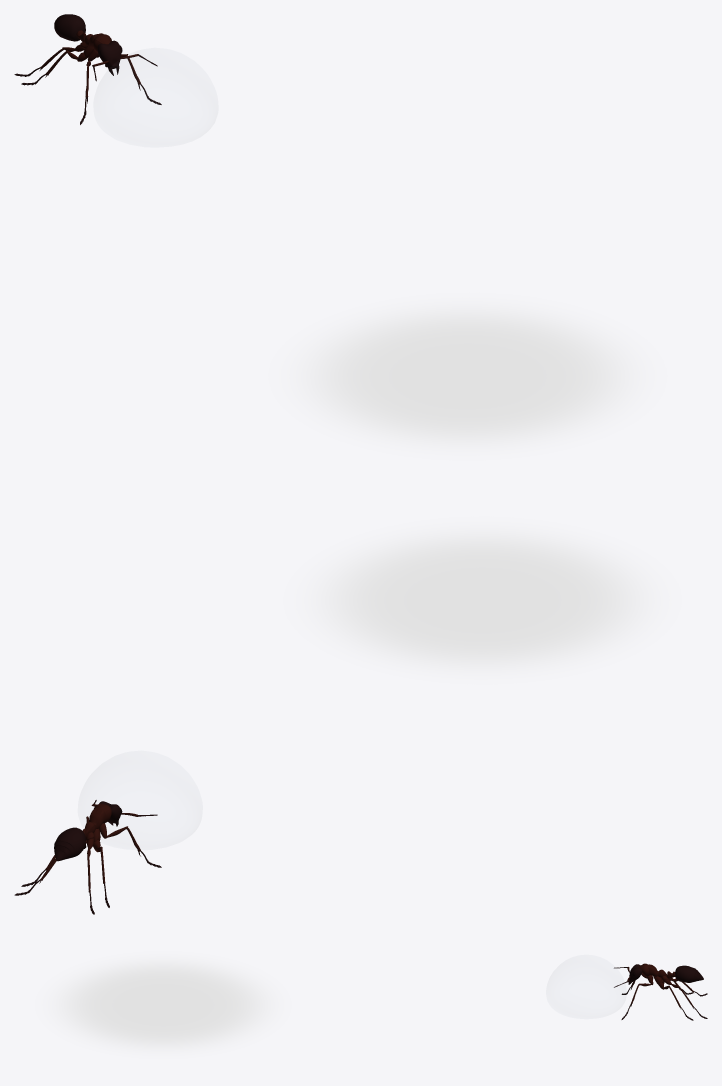
The model's file is ant2.glb.
The picture shows the model from 3 angles, top to bottom: view 1: azimuth 30°, elevation 25°; view 2: azimuth 150°, elevation 25°; view 3: azimuth 270°, elevation 25°; orthographic projection. The views are drawn at different scales.
Visible parts, largest first — view 1: Circle001, anthighrez_ground_0 (×2); view 2: Circle001, anthighrez_ground_0 (×2); view 3: Circle001, anthighrez_ground_0 (×2).
Part boxes in pixels (x1,y1,x2,y2): Circle001: [292, 303, 642, 450]; anthighrez_ground_0 (×2): [14, 14, 161, 124]; Circle001: [307, 526, 657, 674]; anthighrez_ground_0 (×2): [14, 800, 161, 914]; Circle001: [50, 957, 276, 1052]; anthighrez_ground_0 (×2): [614, 963, 707, 1020].
Size of what is drawn, in the model's own units: 46.51 by 8.73 by 106.
5 materials, 1 textured.
